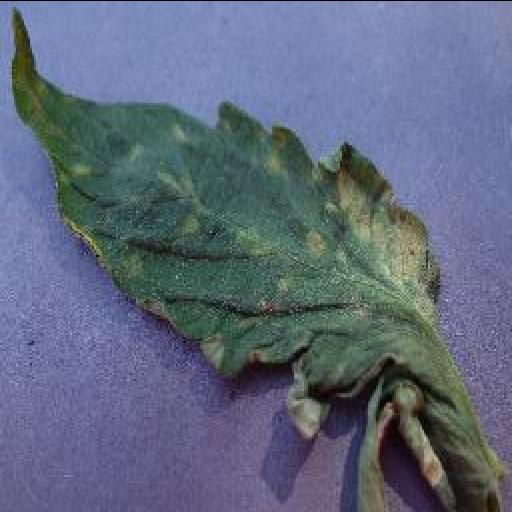disease_tomato: (6, 5, 442, 438)
